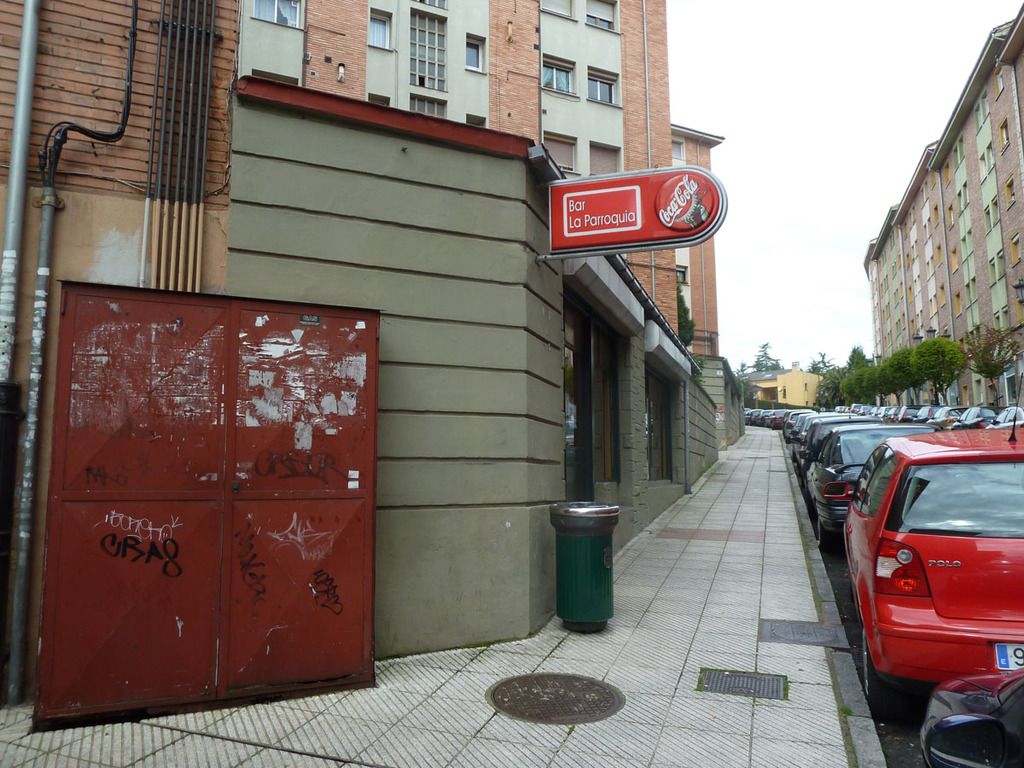Car: (749, 398, 1023, 766)
